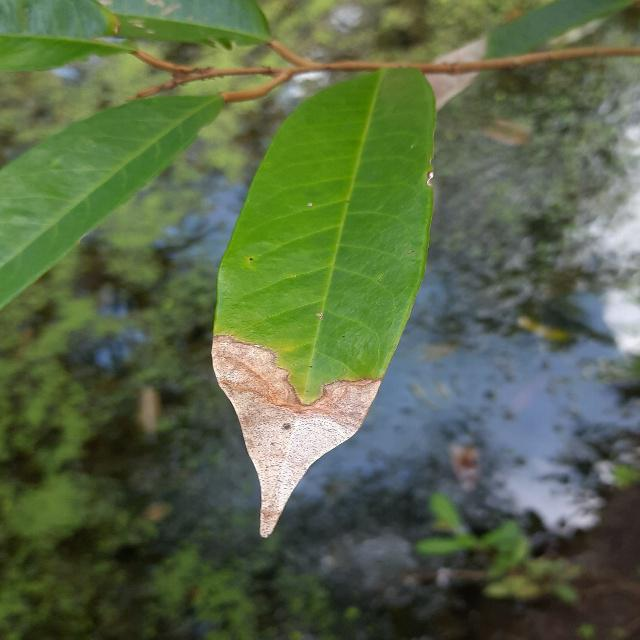Leaf Blight: (207, 59, 443, 547)
